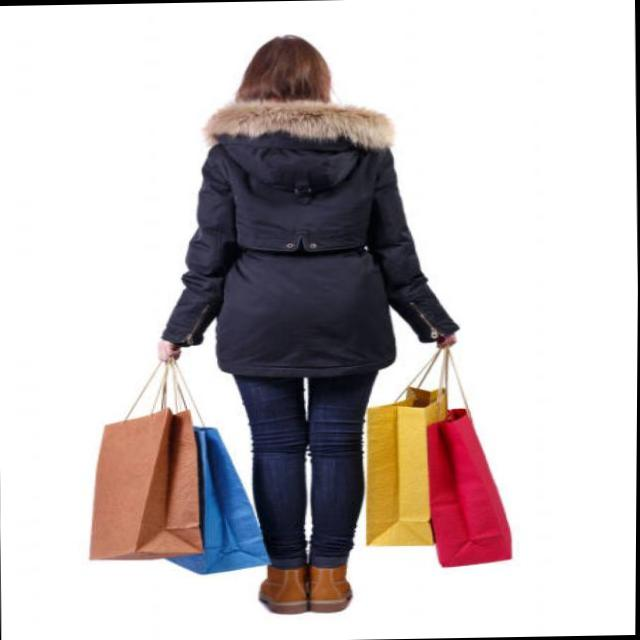no helmet: (231, 32, 338, 139)
